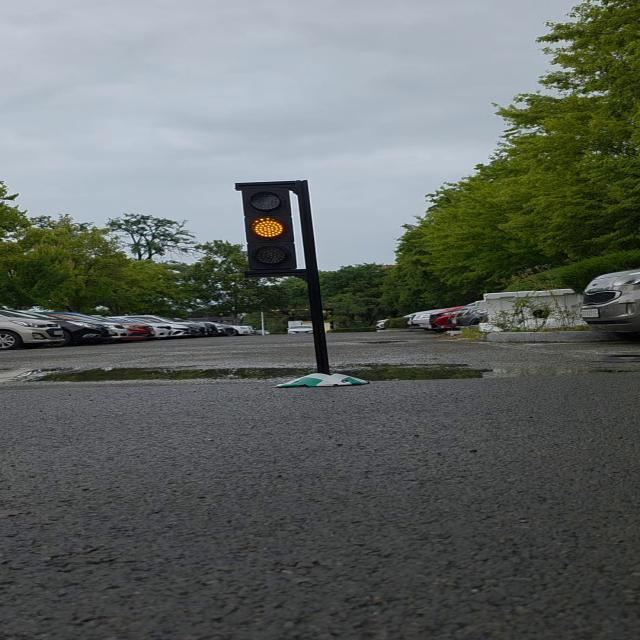yellow: (239, 187, 308, 276)
